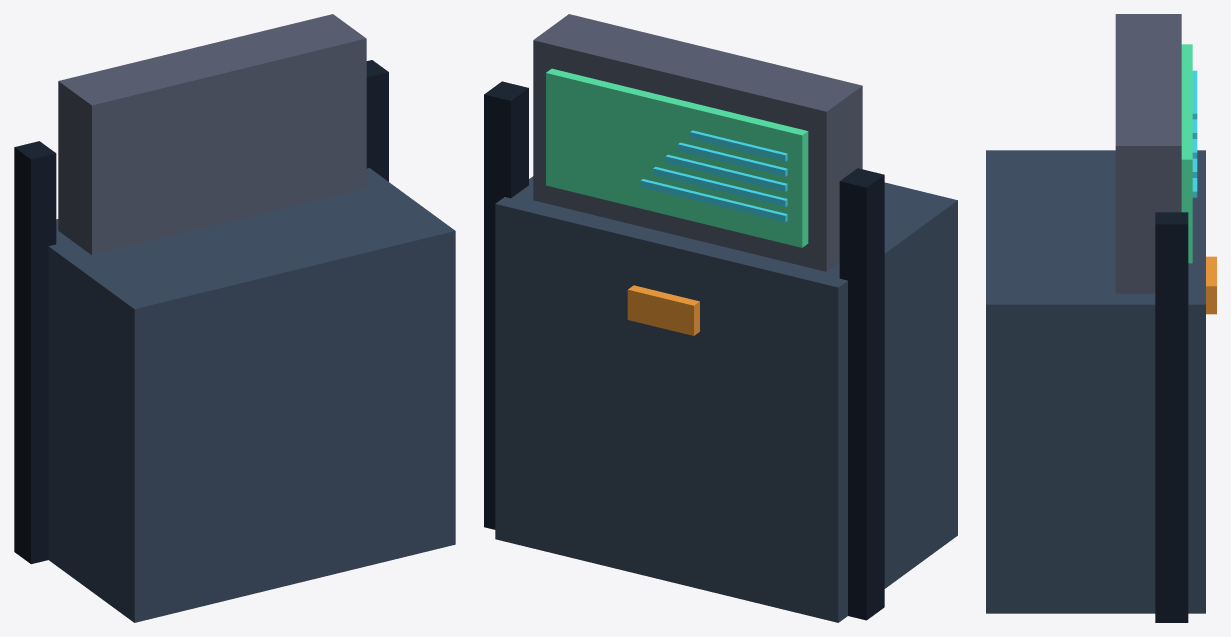
The model's file is env_uplink.obj.
The picture shows the model from 3 angles, left to right: view 1: azimuth 30°, elevation 25°; view 2: azimuth 150°, elevation 25°; view 3: azimuth 270°, elevation 25°; orthographic projection. The views are drawn at different scales.
Bounding box in the file's own units: 1.85 × 2.29 × 1.05.
